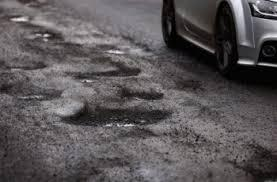Pothole: (56, 96, 168, 139), (222, 129, 277, 182), (68, 151, 160, 182), (63, 61, 155, 87), (0, 76, 65, 108), (110, 79, 167, 104), (0, 52, 56, 76), (168, 72, 211, 103), (78, 39, 137, 57), (25, 28, 71, 49), (2, 12, 40, 26)
